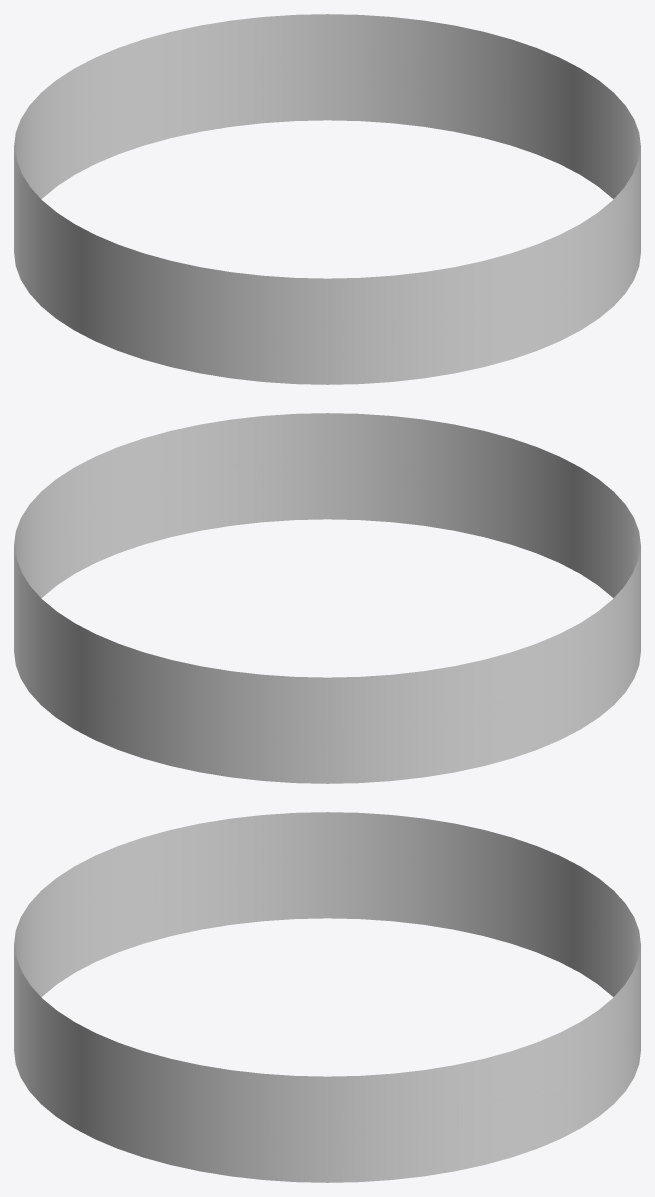
The model's file is Neon_Ring_Text_01.FBX.
3 renders of one model, top to bottom at view 1: azimuth 30°, elevation 25°; view 2: azimuth 150°, elevation 25°; view 3: azimuth 270°, elevation 25°, orthographic.
Visible parts, largest first — view 1: Neon_Ring_Text_01; view 2: Neon_Ring_Text_01; view 3: Neon_Ring_Text_01.
Boxes of the visible parts, <box> form: Neon_Ring_Text_01: <box>14,14,640,384</box>; Neon_Ring_Text_01: <box>14,413,640,783</box>; Neon_Ring_Text_01: <box>14,812,640,1182</box>.
Size of the model in its own units: 4.01 by 0.7455 by 4.01.
1 material, 1 textured.
